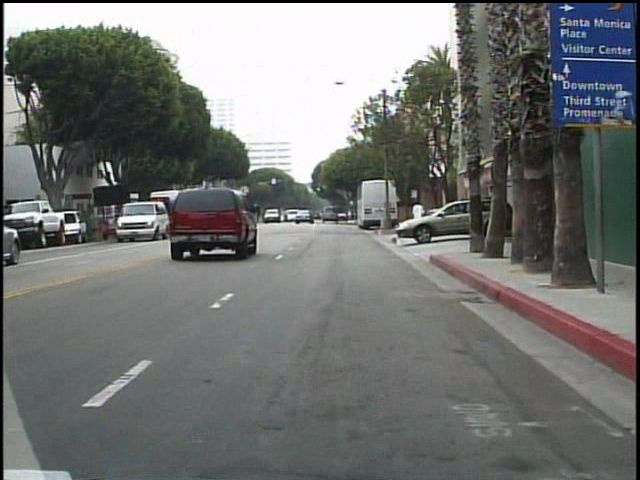person: (411, 196, 431, 237)
